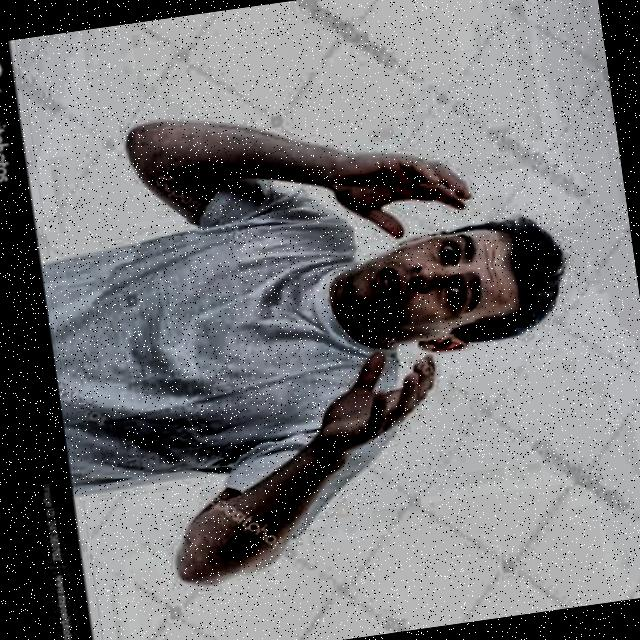fear: (297, 188, 581, 389)
